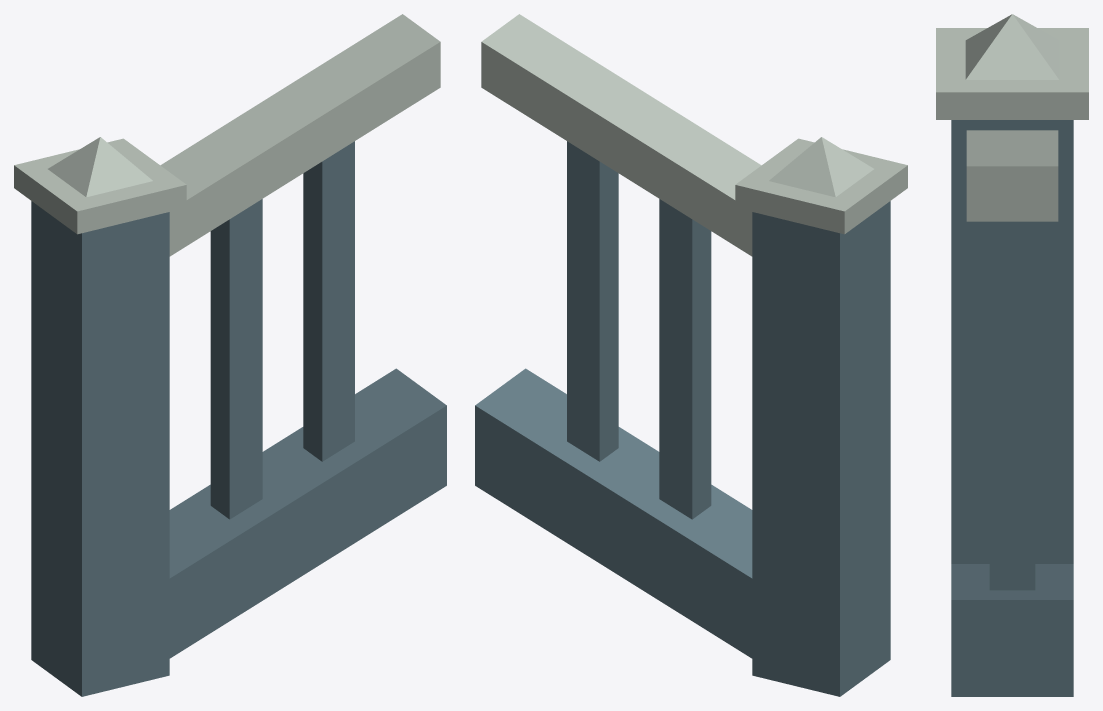
Rendered from rail_stair_4in11_1m.glb.
3 views of the same model, side by side, from view 1: azimuth 30°, elevation 25°; view 2: azimuth 150°, elevation 25°; view 3: azimuth 270°, elevation 25° (orthographic). The views are drawn at different scales.
Visible parts, largest first — view 1: RailStair4in11_1m / Stone, RailStair4in11_1m / Coping; view 2: RailStair4in11_1m / Stone, RailStair4in11_1m / Coping; view 3: RailStair4in11_1m / Stone, RailStair4in11_1m / Coping.
Boxes of the visible parts, left/top/right/bottom form: RailStair4in11_1m / Stone: left=31, top=141, right=446, bottom=696; RailStair4in11_1m / Coping: left=14, top=14, right=440, bottom=256; RailStair4in11_1m / Stone: left=475, top=141, right=890, bottom=696; RailStair4in11_1m / Coping: left=481, top=14, right=907, bottom=256; RailStair4in11_1m / Stone: left=951, top=120, right=1073, bottom=696; RailStair4in11_1m / Coping: left=936, top=14, right=1088, bottom=221.
Bounding box in the file's own units: 1.03 × 1.47 × 0.3.
